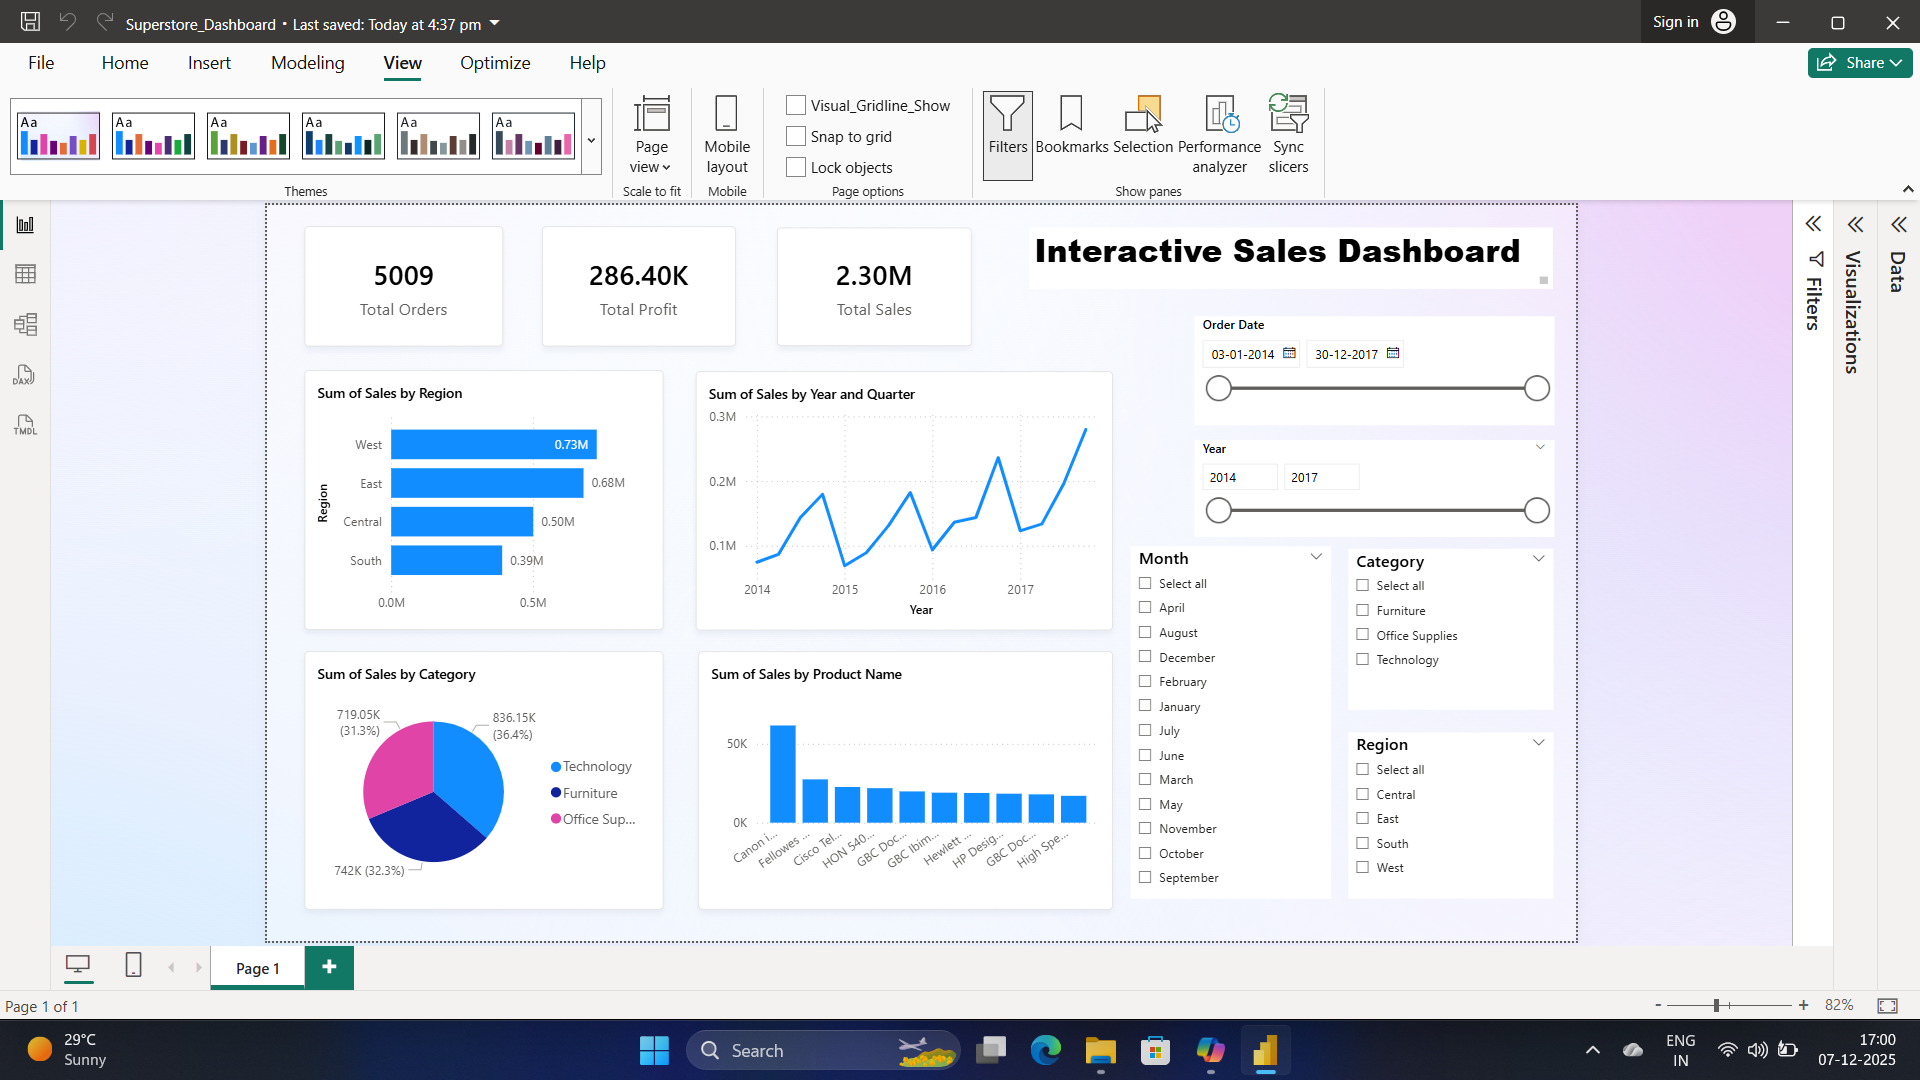

What the dashboard file says about the page in this screenshot:
{"tool":"powerbi","page":{"name":"Page 1","canvas":[1280,720],"ordinal":0},"visuals":[{"type":"card","fields":{"Values":["US Superstore data.Total Sales"]},"box":[498.9,22,190.8,116.2],"z":0},{"type":"card","fields":{"Values":["US Superstore data.Total Profit"]},"box":[269,20.8,189.5,117.4],"z":1},{"type":"card","fields":{"Values":["US Superstore data.Total Orders"]},"box":[36.7,20.8,194.4,117.4],"z":2},{"type":"barChart","fields":{"Category":["US Superstore data.Region"],"Y":["Sum(US Superstore data.Sales)"]},"box":[36.7,161.4,351,254.3],"z":3},{"type":"lineChart","fields":{"Category":["US Superstore data.Order Date.Variation.Date Hierarchy.Year","US Superstore data.Order Date.Variation.Date Hierarchy.Quarter","US Superstore data.Order Date.Variation.Date Hierarchy.Month","US Superstore data.Order Date.Variation.Date Hierarchy.Day"],"Y":["Sum(US Superstore data.Sales)"]},"box":[420,162.3,407.9,253.6],"z":4},{"type":"clusteredColumnChart","fields":{"Category":["US Superstore data.Product Name"],"Y":["Sum(US Superstore data.Sales)"]},"box":[421.9,436.6,406,253.1],"z":6},{"type":"pieChart","fields":{"Category":["US Superstore data.Category"],"Y":["Sum(US Superstore data.Sales)"]},"box":[36.7,436.6,351,253.1],"z":7},{"type":"slicer","fields":{"Values":["US Superstore data.Region"]},"box":[1057.8,516,200.5,162.6],"z":8},{"type":"slicer","fields":{"Values":["US Superstore data.Category"]},"box":[1057.8,336.3,200.5,157.7],"z":9},{"type":"slicer","fields":{"Values":["US Superstore data.Year"]},"box":[907.3,229.9,351,94.2],"z":10},{"type":"slicer","fields":{"Values":["US Superstore data.Month"]},"box":[845,333.8,195.7,344.8],"z":11},{"type":"slicer","fields":{"Values":["US Superstore data.Order Date"]},"box":[907.3,108.8,351,106.4],"z":12},{"type":"textbox","title":"Interactive Sales Dashboard","box":[745.9,22,512.4,59.9],"z":13}]}

Visuals, with their boxes on the page's 1280x720 design canvas (x1, y1, x2, y2). These are canvas units, not pixel positions in the 1920x1080 screenshot, which may show the page scaled, cropped or inside an application window:
card - US Superstore data.Total Sales: x1=499 y1=22 x2=690 y2=138
card - US Superstore data.Total Profit: x1=269 y1=21 x2=458 y2=138
card - US Superstore data.Total Orders: x1=37 y1=21 x2=231 y2=138
barChart - US Superstore data.Region x Sum(US Superstore data.Sales): x1=37 y1=161 x2=388 y2=416
lineChart - US Superstore data.Order Date.Variation.Date Hierarchy.Year x US Superstore data.Order Date.Variation.Date Hierarchy.Quarter: x1=420 y1=162 x2=828 y2=416
clusteredColumnChart - US Superstore data.Product Name x Sum(US Superstore data.Sales): x1=422 y1=437 x2=828 y2=690
pieChart - US Superstore data.Category x Sum(US Superstore data.Sales): x1=37 y1=437 x2=388 y2=690
slicer - US Superstore data.Region: x1=1058 y1=516 x2=1258 y2=679
slicer - US Superstore data.Category: x1=1058 y1=336 x2=1258 y2=494
slicer - US Superstore data.Year: x1=907 y1=230 x2=1258 y2=324
slicer - US Superstore data.Month: x1=845 y1=334 x2=1041 y2=679
slicer - US Superstore data.Order Date: x1=907 y1=109 x2=1258 y2=215
"Interactive Sales Dashboard" textbox: x1=746 y1=22 x2=1258 y2=82
